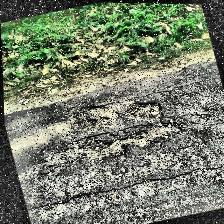pothole: (70, 85, 186, 166)
